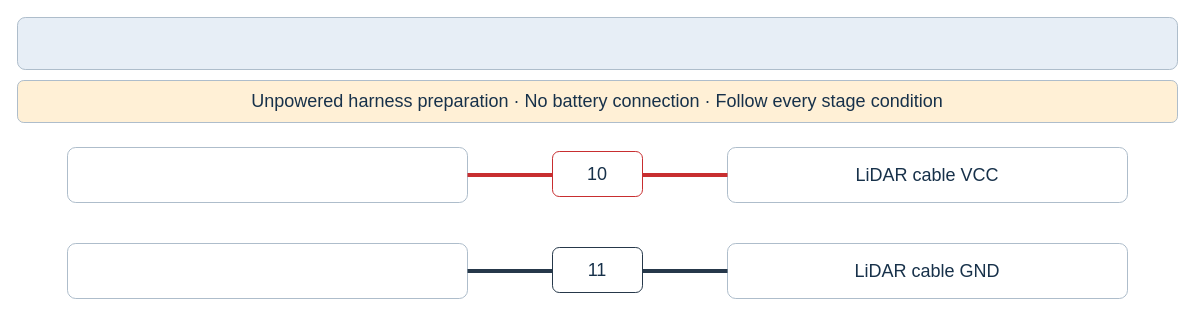
Some shapes in this 1195 by 316 pixel diagram are drawn without their labels. The box of each missing label's shape, as (x1, y1, x2, y2) in pixels:
6 · Prepare the LiDAR power leads: (16, 16, 1178, 70)
GND BUS: (66, 242, 468, 298)
S1 VOUT: (66, 146, 468, 202)
